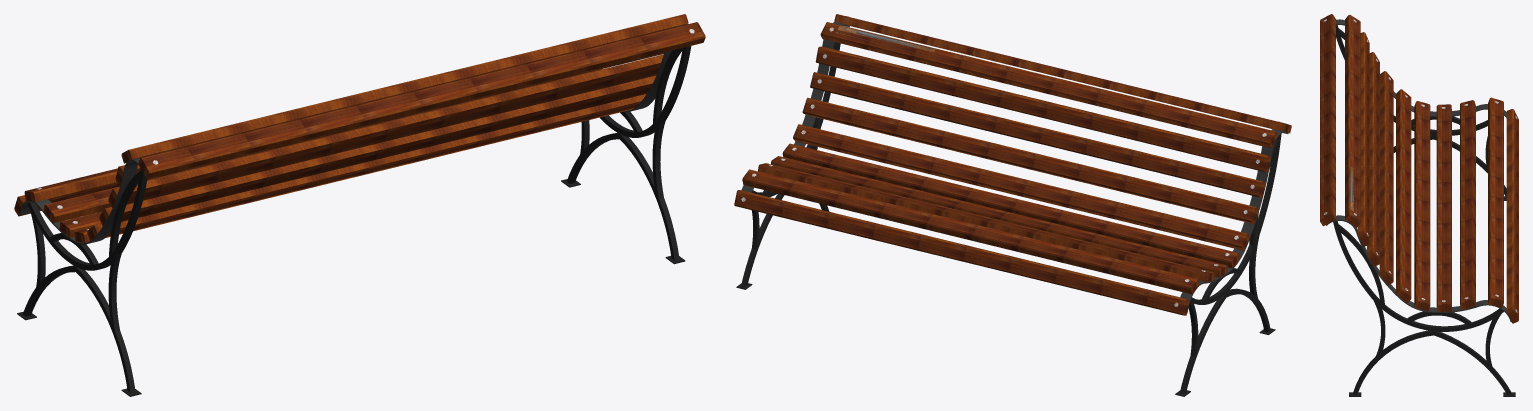
The picture shows the model from 3 angles, left to right: view 1: azimuth 30°, elevation 25°; view 2: azimuth 150°, elevation 25°; view 3: azimuth 270°, elevation 25°; orthographic projection. The views are drawn at different scales.
Parts seen in each view (by area): view 1: mesh1_mesh1-geometry, mesh7_mesh7-geometry, mesh11_mesh11-geometry, mesh15_mesh15-geometry, mesh17_mesh17-geometry, mesh13_mesh13-geometry, mesh19_mesh19-geometry; view 2: mesh1_mesh1-geometry, mesh7_mesh7-geometry, mesh11_mesh11-geometry, mesh15_mesh15-geometry, mesh19_mesh19-geometry, mesh21_mesh21-geometry; view 3: mesh1_mesh1-geometry, mesh11_mesh11-geometry, mesh7_mesh7-geometry, mesh15_mesh15-geometry, mesh17_mesh17-geometry, mesh2_mesh2-geometry, mesh19_mesh19-geometry, mesh13_mesh13-geometry, mesh21_mesh21-geometry.
Boxes of the visible parts, <box> form: mesh1_mesh1-geometry: <box>14,14,705,242</box>; mesh7_mesh7-geometry: <box>17,133,685,396</box>; mesh11_mesh11-geometry: <box>27,46,691,270</box>; mesh15_mesh15-geometry: <box>19,24,688,244</box>; mesh17_mesh17-geometry: <box>109,48,682,256</box>; mesh13_mesh13-geometry: <box>108,121,665,330</box>; mesh19_mesh19-geometry: <box>30,120,589,286</box>; mesh1_mesh1-geometry: <box>734,14,1291,315</box>; mesh7_mesh7-geometry: <box>736,193,1275,396</box>; mesh11_mesh11-geometry: <box>752,43,1281,304</box>; mesh15_mesh15-geometry: <box>741,22,1288,313</box>; mesh19_mesh19-geometry: <box>751,210,1198,356</box>; mesh21_mesh21-geometry: <box>836,26,935,52</box>; mesh1_mesh1-geometry: <box>1320,14,1518,323</box>; mesh11_mesh11-geometry: <box>1333,25,1503,331</box>; mesh7_mesh7-geometry: <box>1349,135,1515,396</box>; mesh15_mesh15-geometry: <box>1326,19,1511,322</box>; mesh17_mesh17-geometry: <box>1338,28,1384,305</box>; mesh2_mesh2-geometry: <box>1407,116,1471,325</box>; mesh19_mesh19-geometry: <box>1485,136,1501,367</box>; mesh13_mesh13-geometry: <box>1374,301,1385,357</box>; mesh21_mesh21-geometry: <box>1350,166,1357,212</box>.
Bounding box in the file's own units: 0.8585 × 0.3651 × 0.3601.
